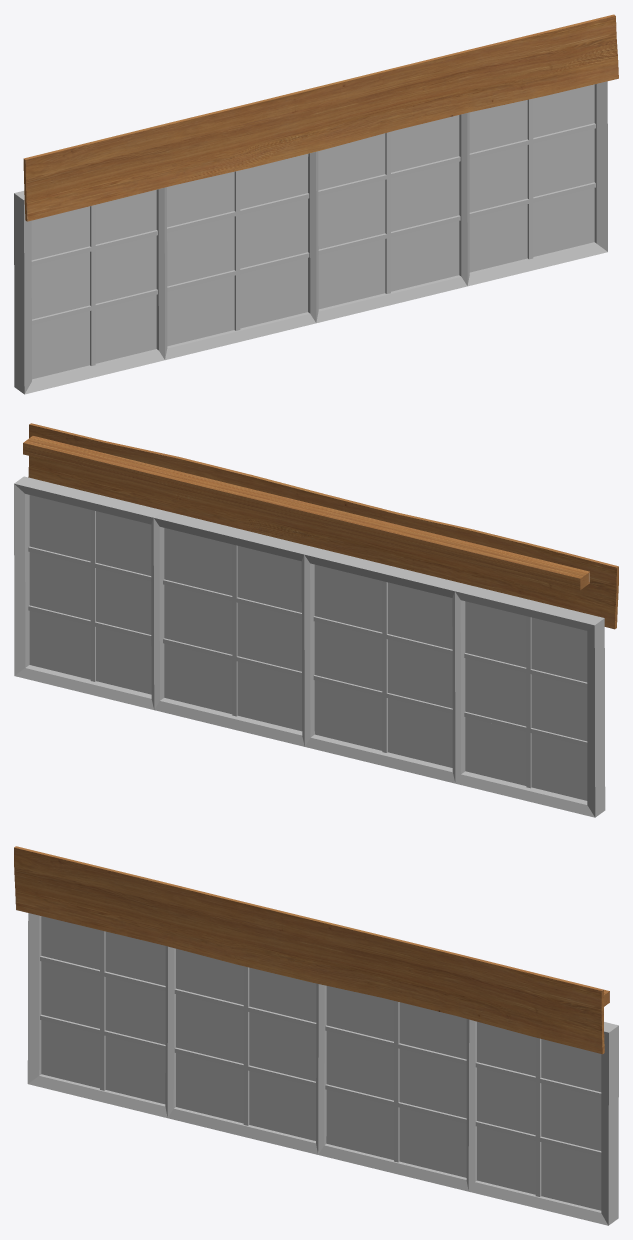
The model's file is WindowNew_LargeDomestic.fbx.
3 views of the same model, one above another, from view 1: azimuth 30°, elevation 25°; view 2: azimuth 150°, elevation 25°; view 3: azimuth 330°, elevation 25° (orthographic).
Parts seen in each view (by area): view 1: MozzieNet R, Pelmet001, MozzieNet L, WindowNew_Large; view 2: WindowNew_Large, MozzieNet L, MozzieNet R, Pelmet001; view 3: MozzieNet R, MozzieNet L, Pelmet001, WindowNew_Large.
Boxes of the visible parts, left/top/right/bottom form: MozzieNet R: left=318, top=84, right=594, bottom=309; Pelmet001: left=23, top=14, right=618, bottom=221; MozzieNet L: left=31, top=154, right=308, bottom=379; WindowNew_Large: left=14, top=81, right=607, bottom=394; WindowNew_Large: left=14, top=436, right=605, bottom=817; MozzieNet L: left=314, top=564, right=587, bottom=800; MozzieNet R: left=29, top=495, right=301, bottom=731; Pelmet001: left=28, top=423, right=618, bottom=629; MozzieNet R: left=326, top=986, right=601, bottom=1210; MozzieNet L: left=41, top=916, right=316, bottom=1140; Pelmet001: left=14, top=846, right=604, bottom=1054; WindowNew_Large: left=27, top=913, right=618, bottom=1225.
Size of the model in its own units: 138 by 53.99 by 7.61.
